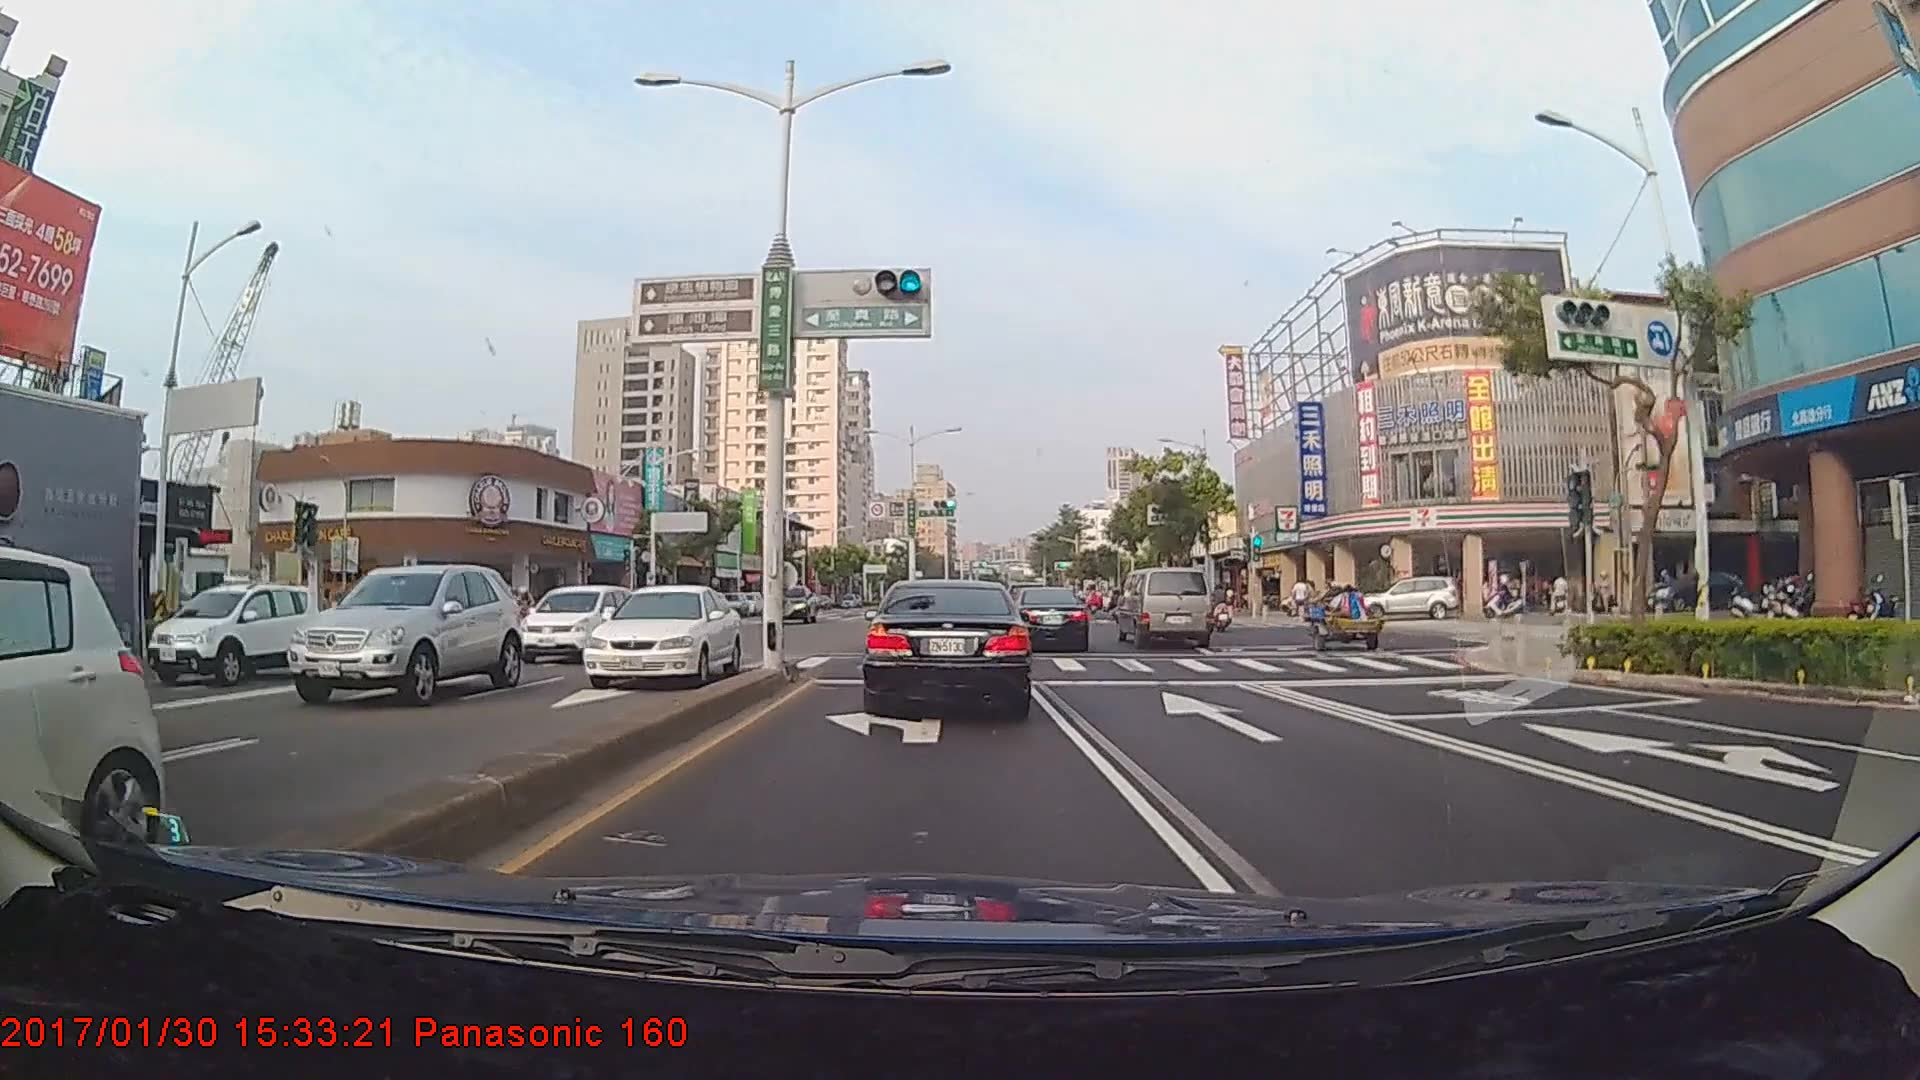rider: (504, 583, 541, 639), (1206, 582, 1239, 635)
vehicle: (0, 546, 168, 890), (0, 383, 144, 735), (273, 557, 515, 707), (866, 576, 1031, 716), (576, 581, 745, 687), (166, 576, 313, 685), (509, 582, 636, 662), (1118, 565, 1213, 650), (1009, 586, 1091, 650), (1371, 574, 1462, 622)
